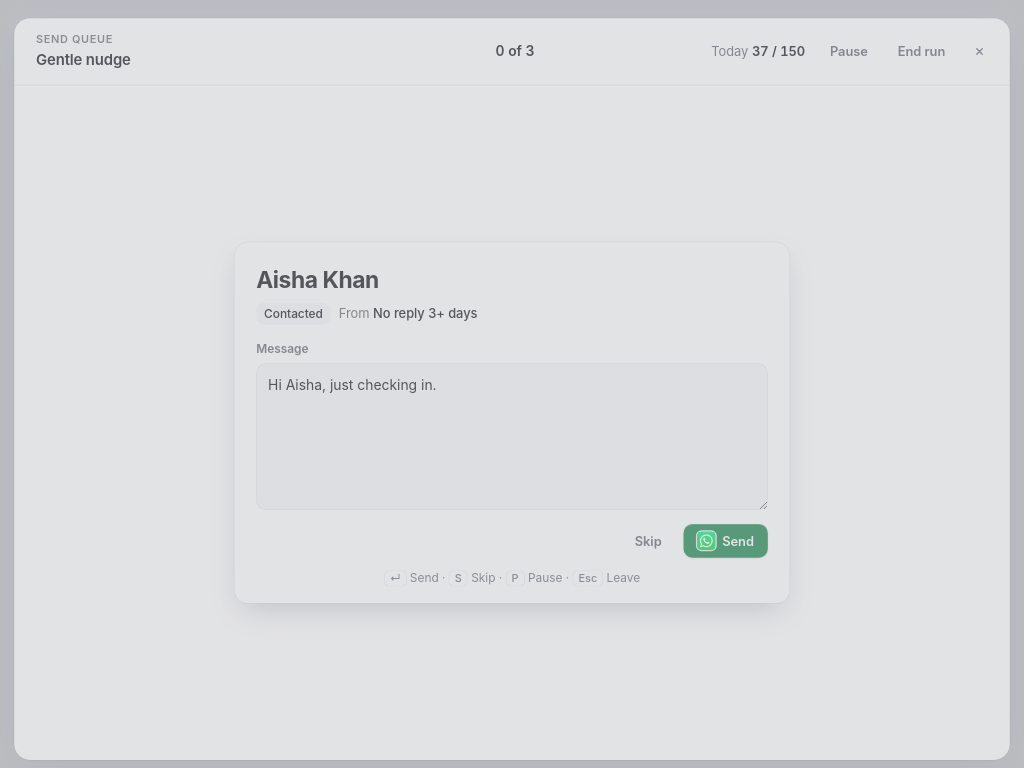
Test: QueueRun (4C Task 4) › a lead that can't be sent any more says why, and the run moves on
The image size is (1024, 768).
Expected: the text box showing "Hi Aisha, just checking in." is shown, [256, 364, 768, 510]
Click the button "Send": [726, 541] box [684, 524, 768, 558]
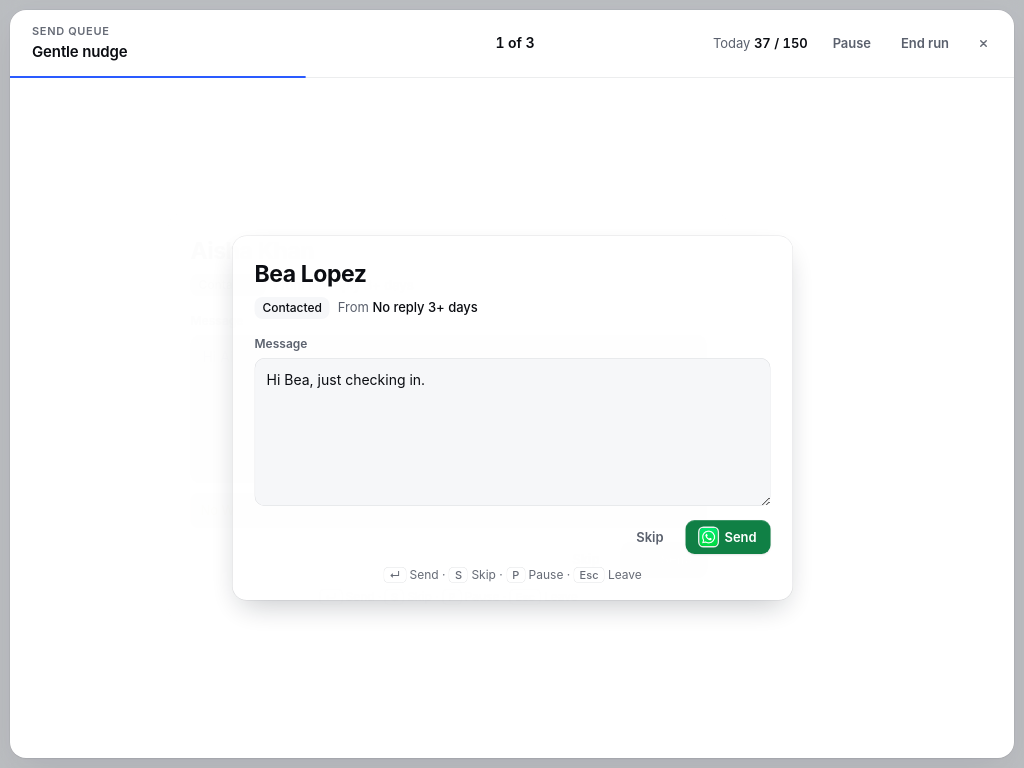
Expected: the text "No WhatsApp number" is shown, [191, 493, 707, 528]
Expected: the heading "Bea Lopez" is shown, [255, 260, 367, 288]
